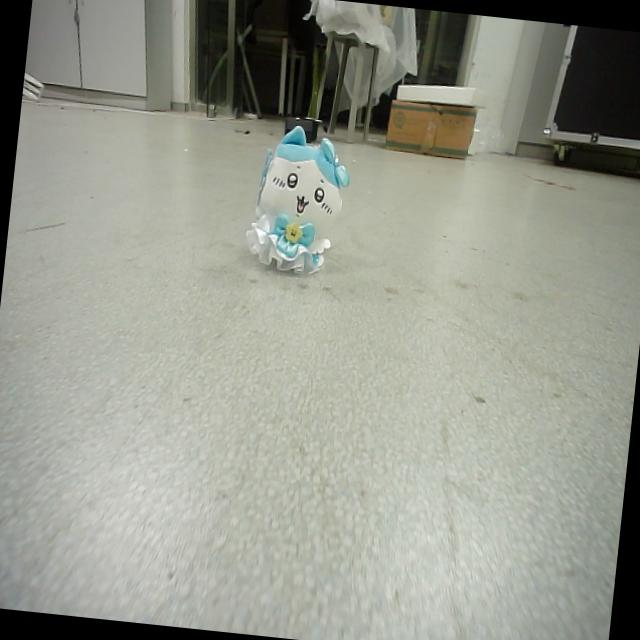xiaoba: (246, 114, 354, 287)
